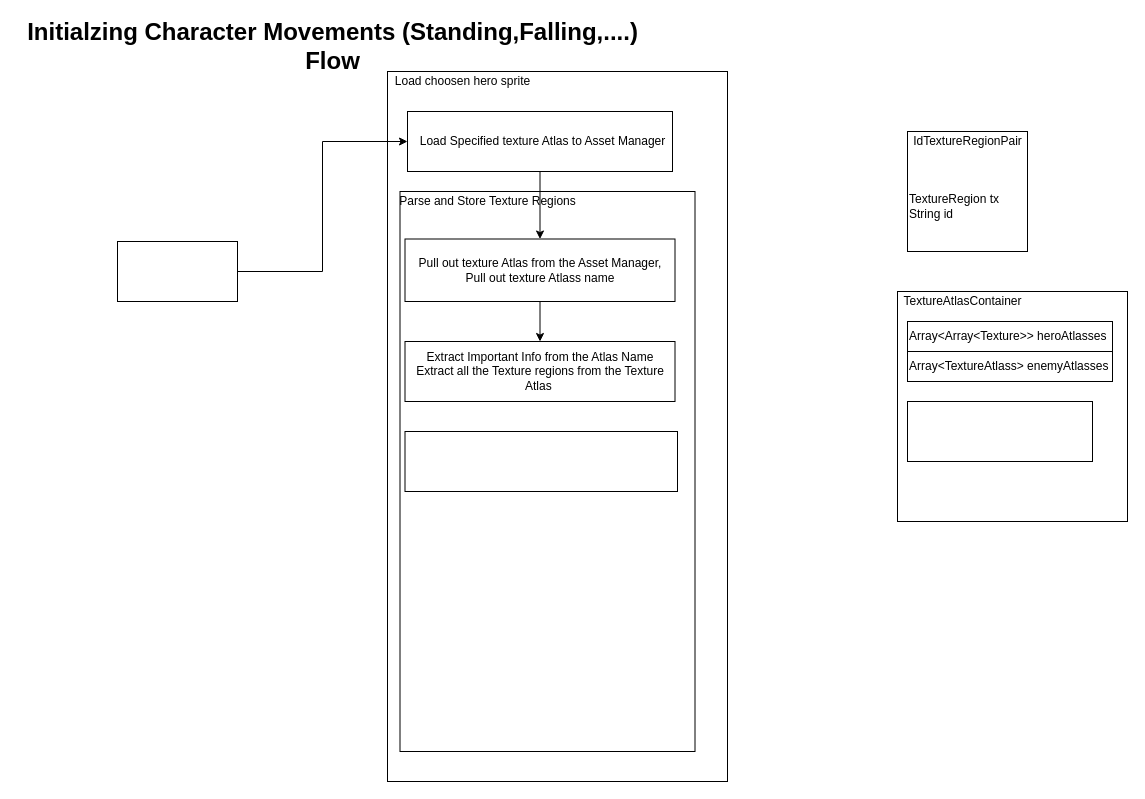
The diagram is 1145 pixels wide and 799 high, and some of its shapes have lost their labels. Here are the shapes that lost their labels. From the top down, the centre of each, then its label:
(177,271): Choose a hero
(999,431): addTextureAtlass2 Array(Atlas,toHeroAtlas)
(541,461): Load
